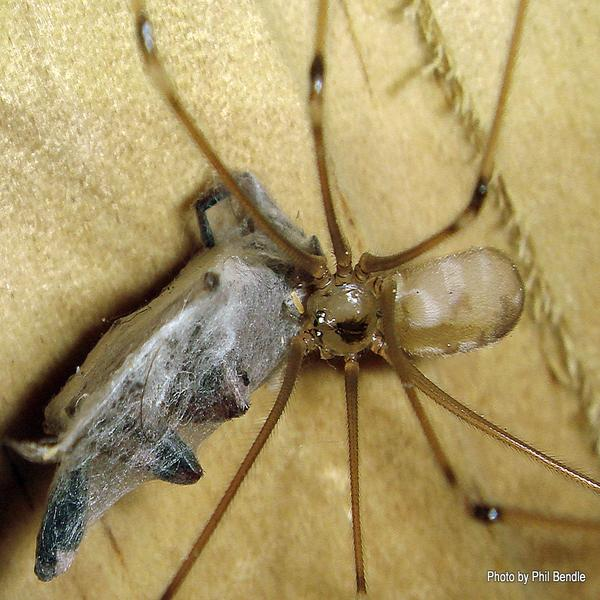Daddy Long Legs Spider: (120, 5, 595, 599)
